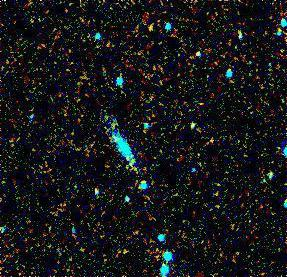star: (135, 16, 165, 46)
